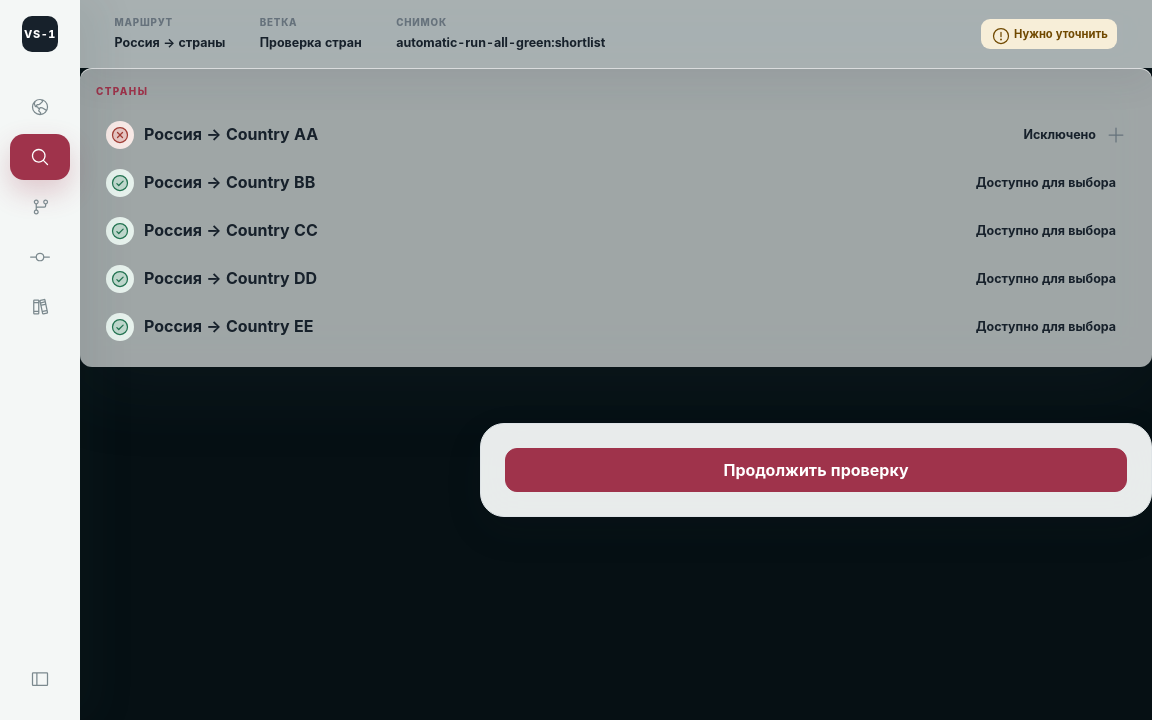
Test case: country-resolution same-planet handoff › never auto-continues a stored replacement and starts only from explicit Continue
Step 1. Click the button "Продолжить проверку" → (816, 470), box [505,448,1127,492]
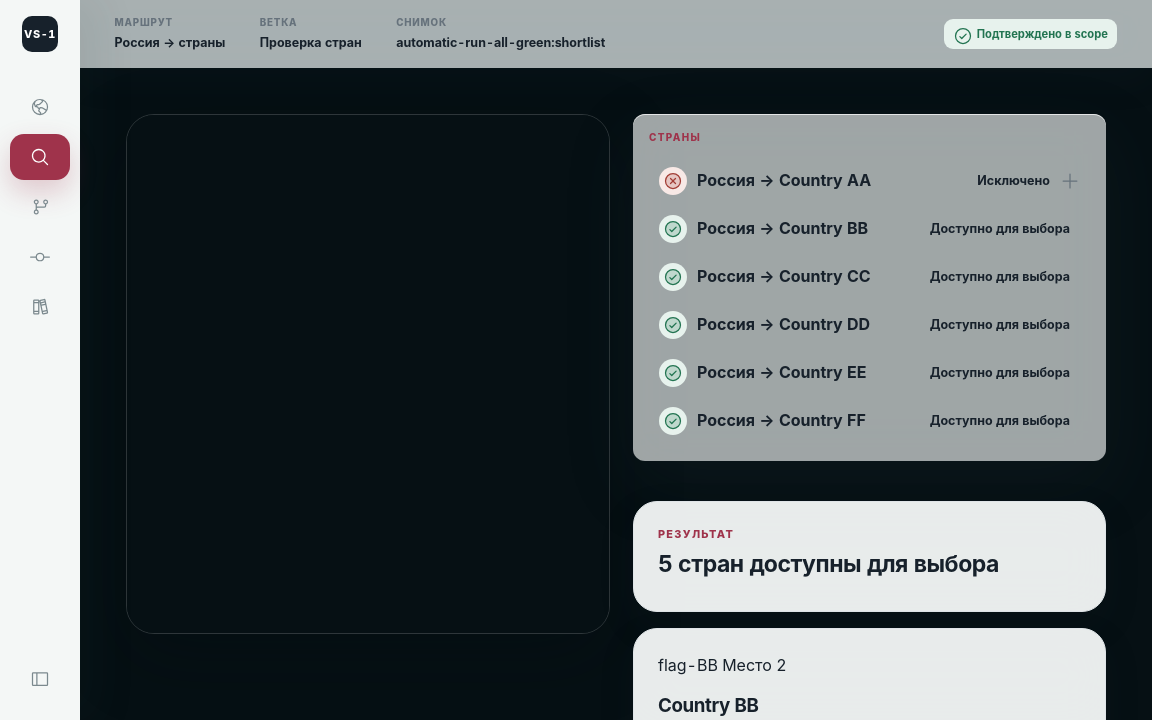
expect the heading "5 стран доступны для выбора" is shown: met, box [658,550,999,578]
